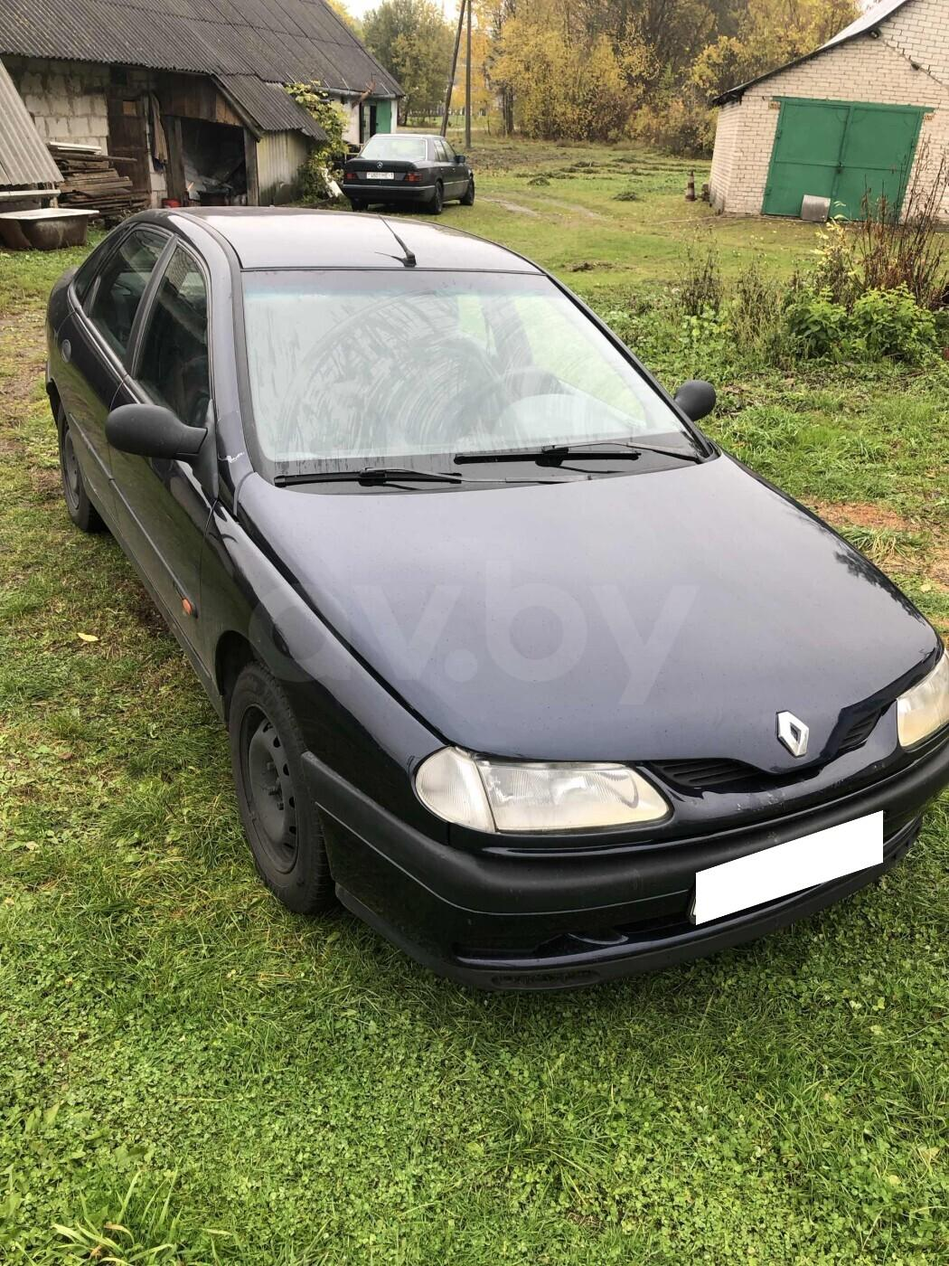Lahuna_1993-1999: (40, 192, 949, 1007)
